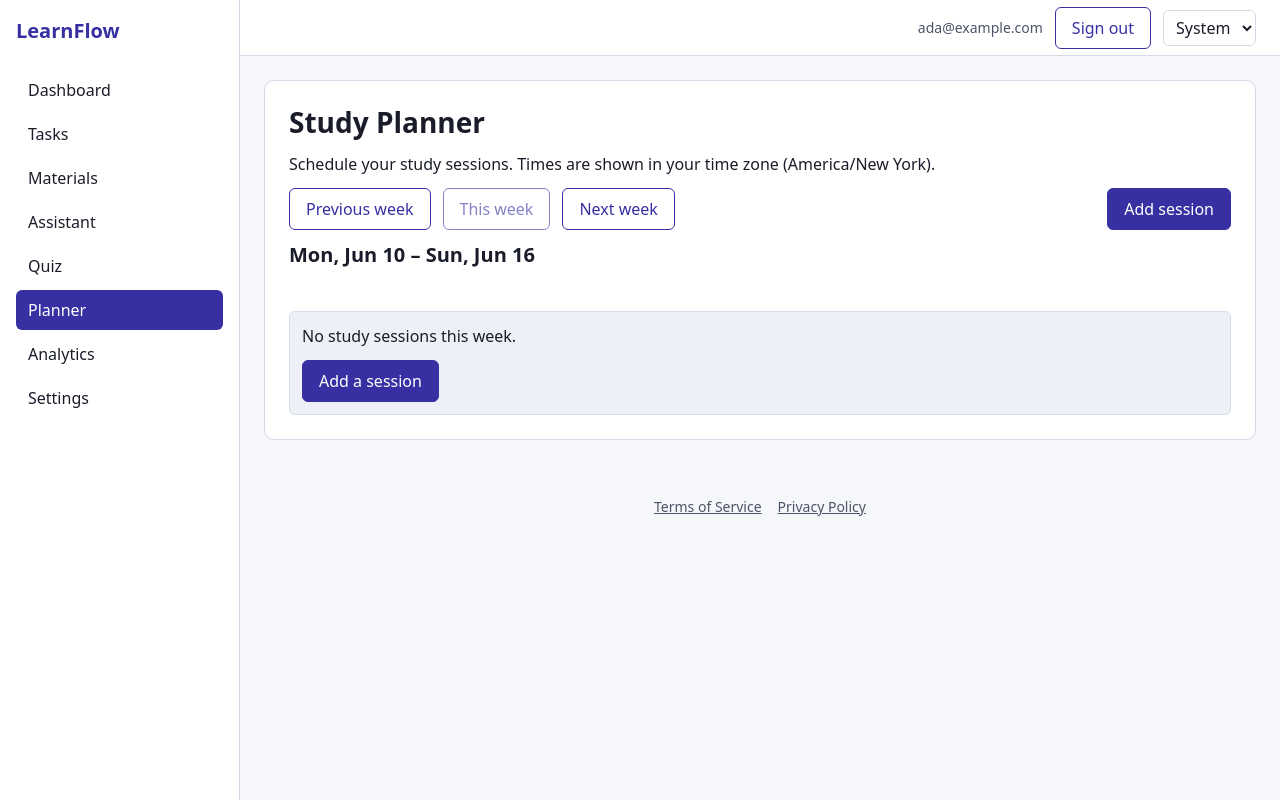
it: planner: adding a session › shows what is wrong next to each field and sends nothing
This screenshot has width=1280, height=800.
Expected: the element that starts with "Study Planner" is shown, [240, 56, 1279, 480]
Expected: the heading "Study Planner" is shown, [289, 103, 485, 141]
Click the button "Add session" at (1169, 209), box [1107, 188, 1231, 230]
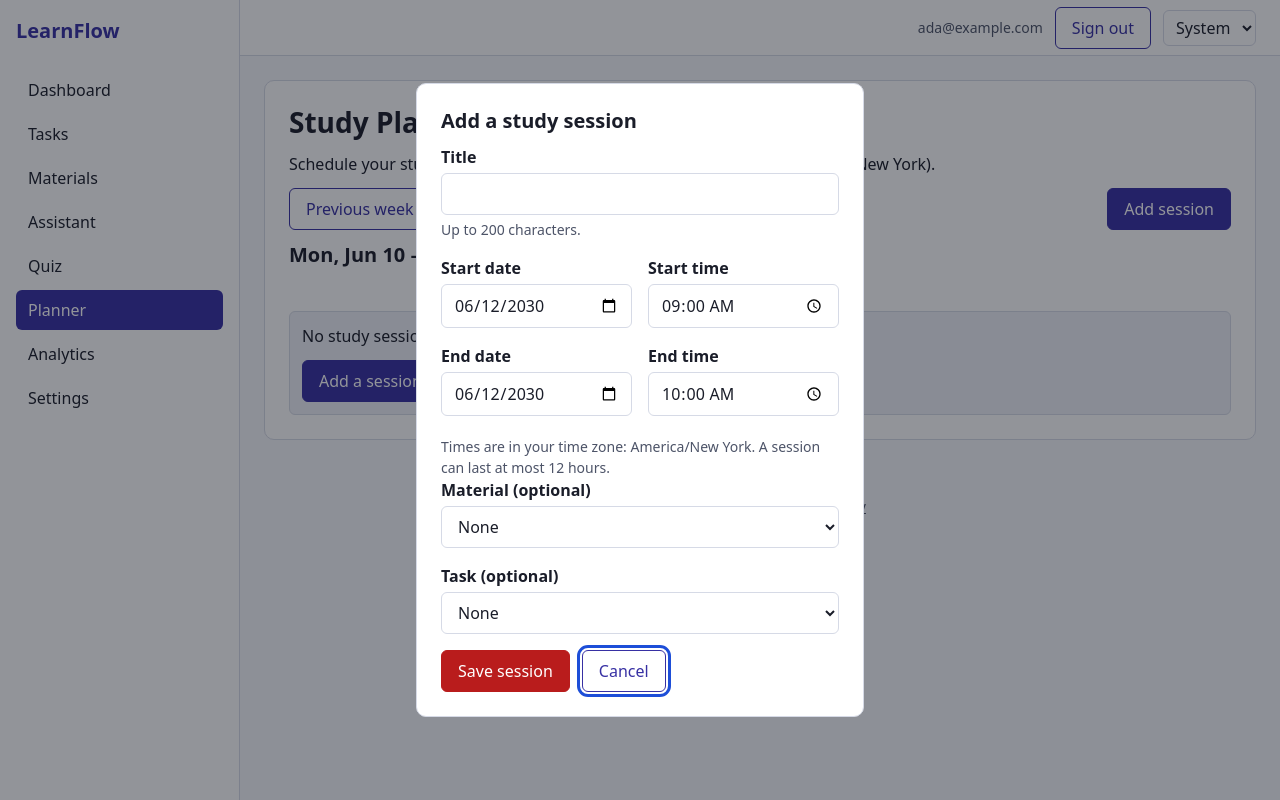
Expected: the dialog is shown, [416, 83, 864, 717]
Replace the text in the time field labelled "End time" with "08:00" at (744, 394), box [648, 372, 839, 416]
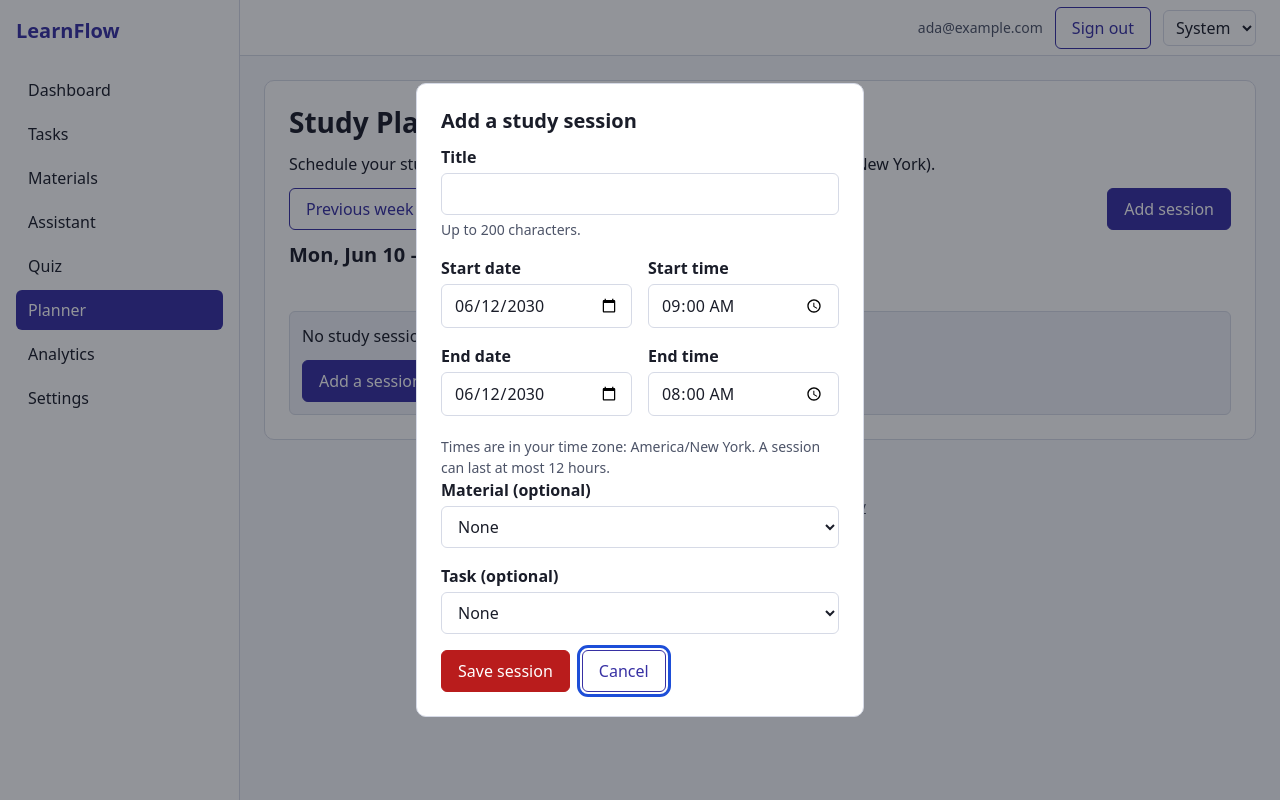
Click the button "Save session" at (505, 671), box [441, 650, 570, 692]
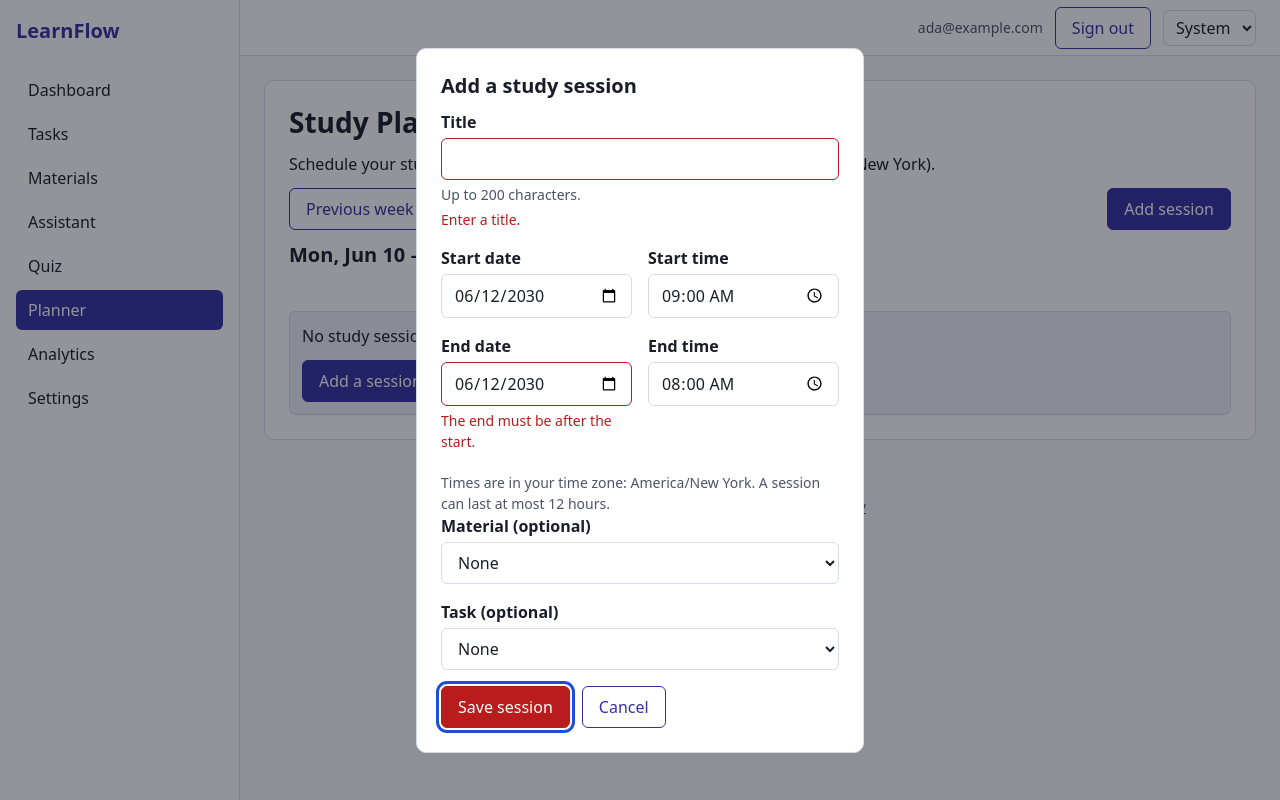
Expected: the text "Enter a title." is shown, [441, 210, 520, 228]
Expected: the text "The end must be after the start." is shown, [441, 410, 632, 452]
